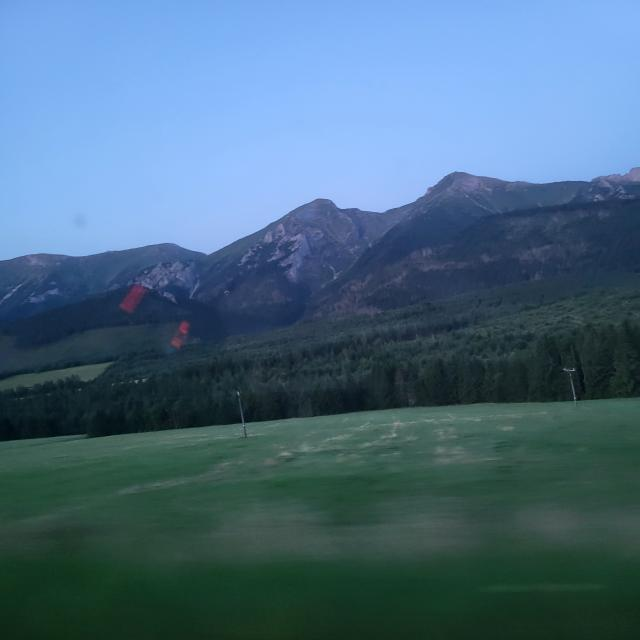Hreben Bast: (5, 213, 169, 294)
Koncista: (366, 124, 559, 226)
